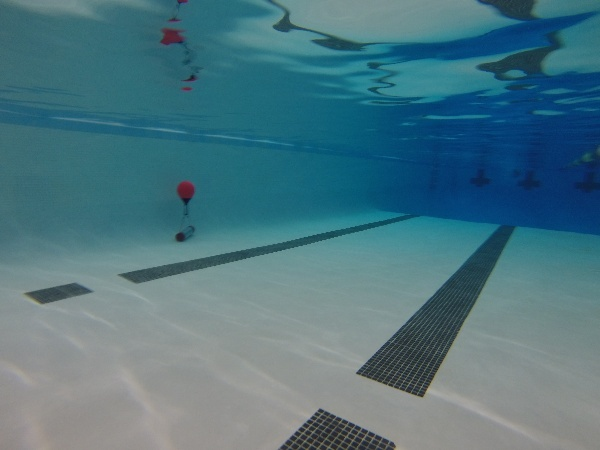buoy_red: (174, 178, 199, 208)
